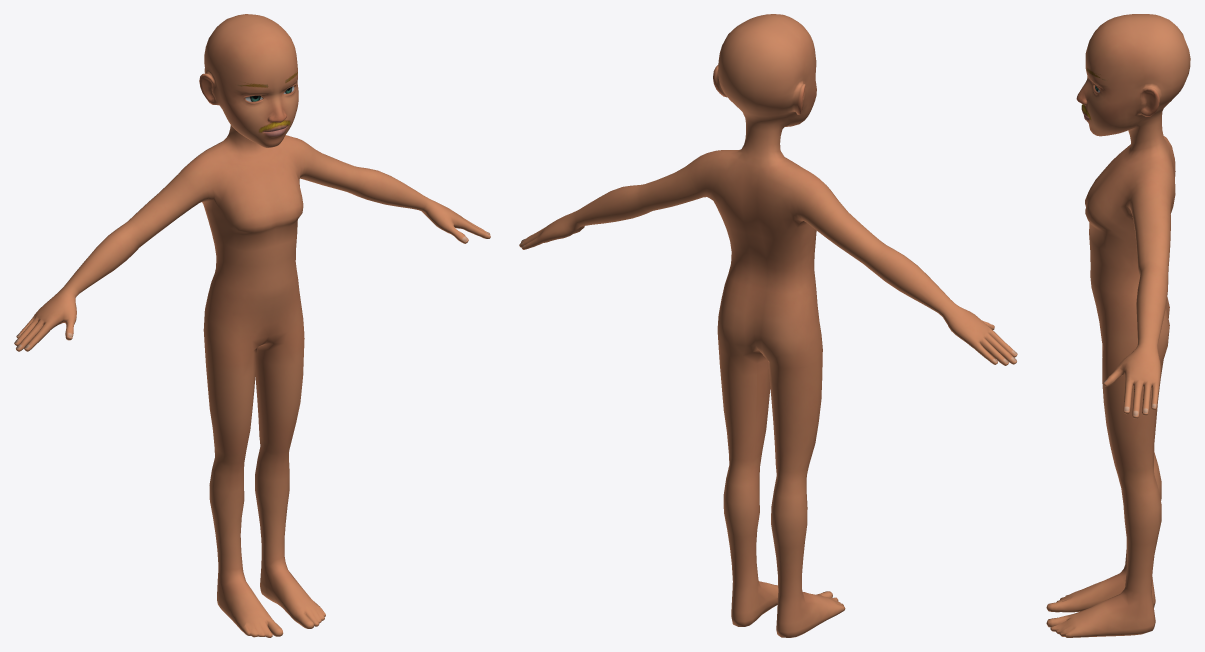
The model's file is frame_0063.glb.
The picture shows the model from 3 angles, left to right: view 1: azimuth 30°, elevation 25°; view 2: azimuth 150°, elevation 25°; view 3: azimuth 270°, elevation 25°; orthographic projection. The views are drawn at different scales.
Parts seen in each view (by area): view 1: frame_0063_head_geo; view 2: frame_0063_head_geo; view 3: frame_0063_head_geo.
Part boxes in pixels (left/top/right/bottom): frame_0063_head_geo: left=14, top=14, right=490, bottom=637; frame_0063_head_geo: left=519, top=14, right=1017, bottom=637; frame_0063_head_geo: left=1046, top=14, right=1190, bottom=637.
Bounding box in the file's own units: 1.28 × 1.5 × 0.3253.
Materials: 3 (3 with a texture image).
